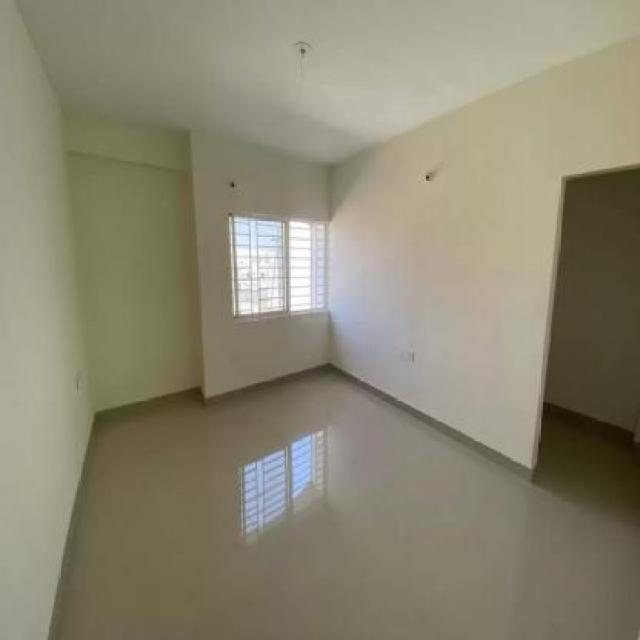Floor: (57, 370, 639, 639)
